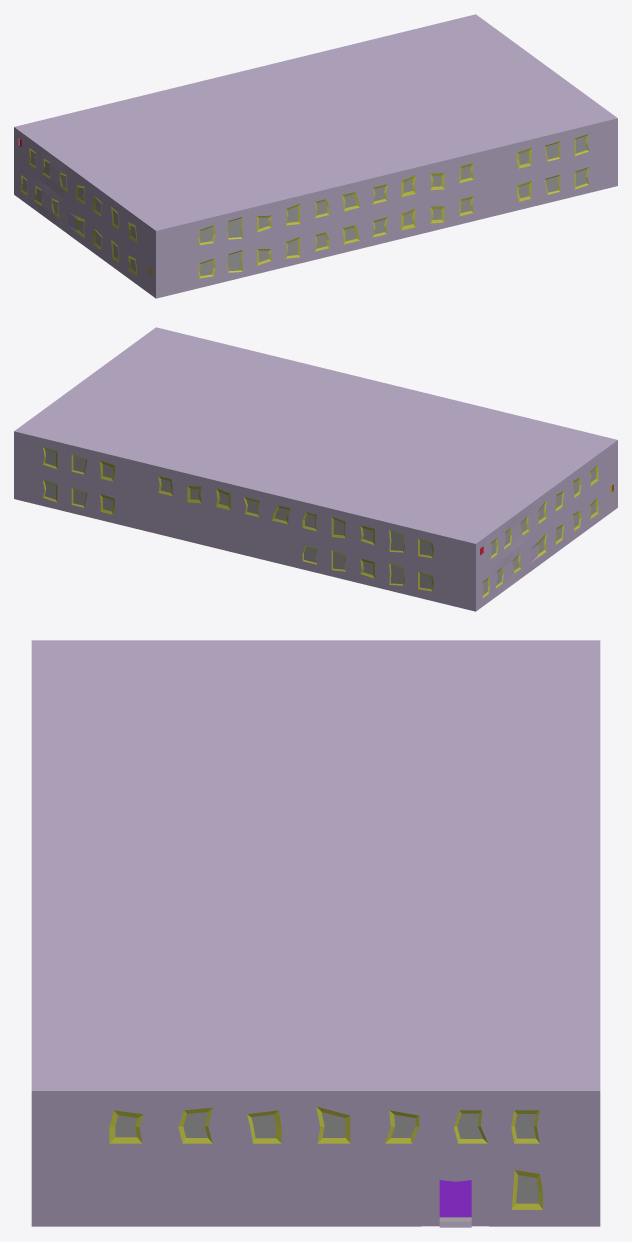
The model's file is SM_SchoolBuilding_2.1.fbx.
3 views of the same model, one above another, from view 1: azimuth 30°, elevation 25°; view 2: azimuth 150°, elevation 25°; view 3: azimuth 270°, elevation 25° (orthographic). The views are drawn at different scales.
Parts seen in each view (by area): view 1: SM_SchoolCeiling, SM_SchoolWallEastTop, SM_SchoolWallEastBottom, SM_SchoolWallSouthBottom, SM_SchoolWallSoutTop; view 2: SM_SchoolCeiling, SM_SchoolWallWestBottom, SM_SchoolWallWestTop, SM_SchoolWallSoutTop, SM_SchoolWallSouthBottom; view 3: SM_SchoolCeiling, SM_SchoolWallNorthTop, SM_SchoolWallNothBottom, SM_SchoolSmallWallNorthBottom, SM_OutsideDoorFrame, SM_HallwayFloor.
Boxes of the visible parts, x1=… form: SM_SchoolCeiling: x1=14, y1=14, x2=617, y2=232; SM_SchoolWallEastTop: x1=154, y1=119, x2=617, y2=265; SM_SchoolWallEastBottom: x1=154, y1=153, x2=617, y2=298; SM_SchoolWallSouthBottom: x1=16, y1=163, x2=153, y2=296; SM_SchoolWallSoutTop: x1=16, y1=130, x2=153, y2=263; SM_SchoolCeiling: x1=14, y1=327, x2=617, y2=545; SM_SchoolWallWestBottom: x1=14, y1=466, x2=477, y2=611; SM_SchoolWallWestTop: x1=14, y1=432, x2=477, y2=578; SM_SchoolWallSoutTop: x1=478, y1=443, x2=615, y2=576; SM_SchoolWallSouthBottom: x1=478, y1=476, x2=615, y2=609; SM_SchoolCeiling: x1=31, y1=640, x2=600, y2=1093; SM_SchoolWallNorthTop: x1=40, y1=1093, x2=591, y2=1159; SM_SchoolWallNothBottom: x1=40, y1=1160, x2=421, y2=1226; SM_SchoolSmallWallNorthBottom: x1=489, y1=1160, x2=591, y2=1226; SM_OutsideDoorFrame: x1=421, y1=1160, x2=488, y2=1227; SM_HallwayFloor: x1=439, y1=1180, x2=471, y2=1217.
Size of the model in its own units: 7301 by 1032 by 3880.
